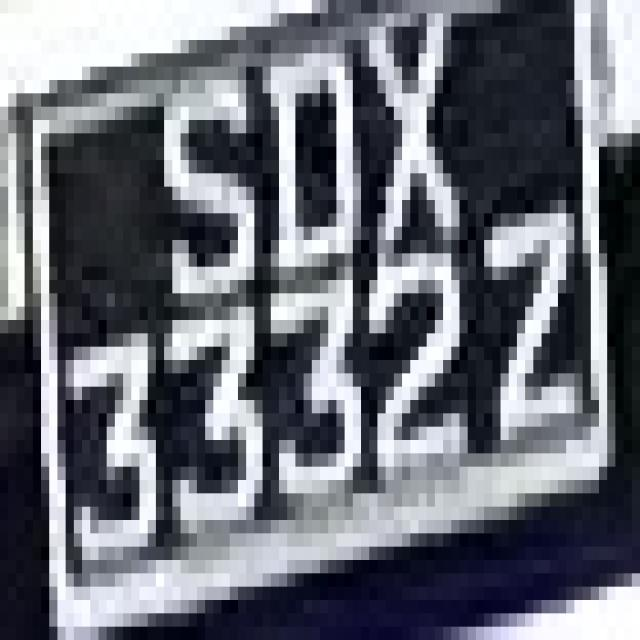2: (353, 227, 468, 493)
3: (238, 227, 369, 533), (49, 306, 172, 586), (147, 266, 270, 546)
D: (238, 40, 361, 293)
S: (131, 54, 263, 294)
X: (336, 0, 476, 280)
Z: (451, 173, 583, 467)
